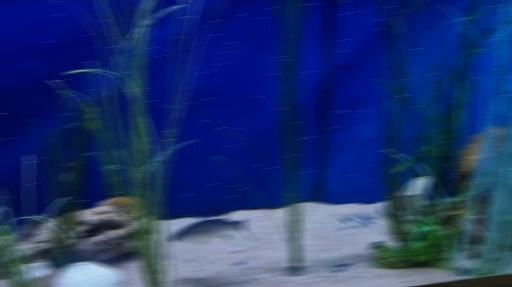Fish: (170, 215, 253, 243)
